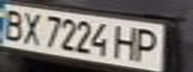2: (72, 17, 93, 55), (57, 16, 78, 53)
4: (90, 20, 115, 58)
7: (39, 12, 63, 48)
B: (0, 7, 27, 42)
H: (112, 22, 142, 61)
P: (130, 26, 166, 63)
X: (18, 9, 45, 46)
